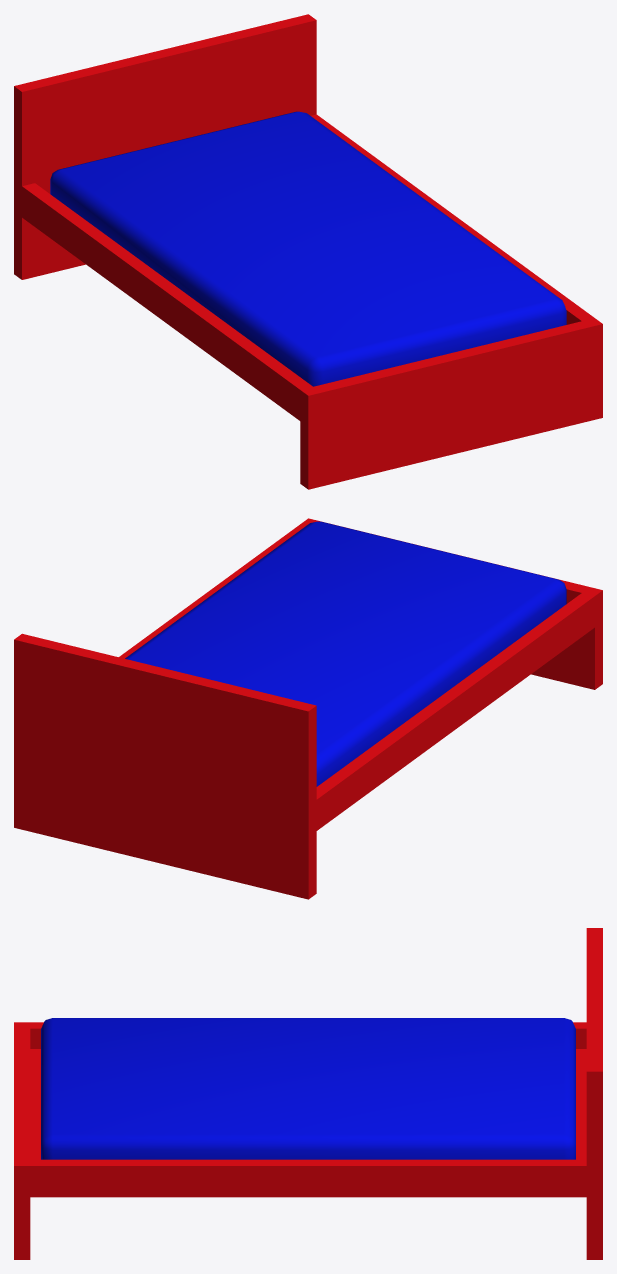
File: Bed.fbx
3 renders of one model, top to bottom at view 1: azimuth 30°, elevation 25°; view 2: azimuth 150°, elevation 25°; view 3: azimuth 270°, elevation 25°, orthographic.
Visible parts, largest first — view 1: Bed; view 2: Bed; view 3: Bed.
Boxes of the visible parts, x1,y1,x2,y2 form: Bed: [14, 14, 602, 489]; Bed: [14, 518, 602, 899]; Bed: [14, 928, 602, 1259].
Bounding box in the file's own units: 105 × 63.94 × 181.
